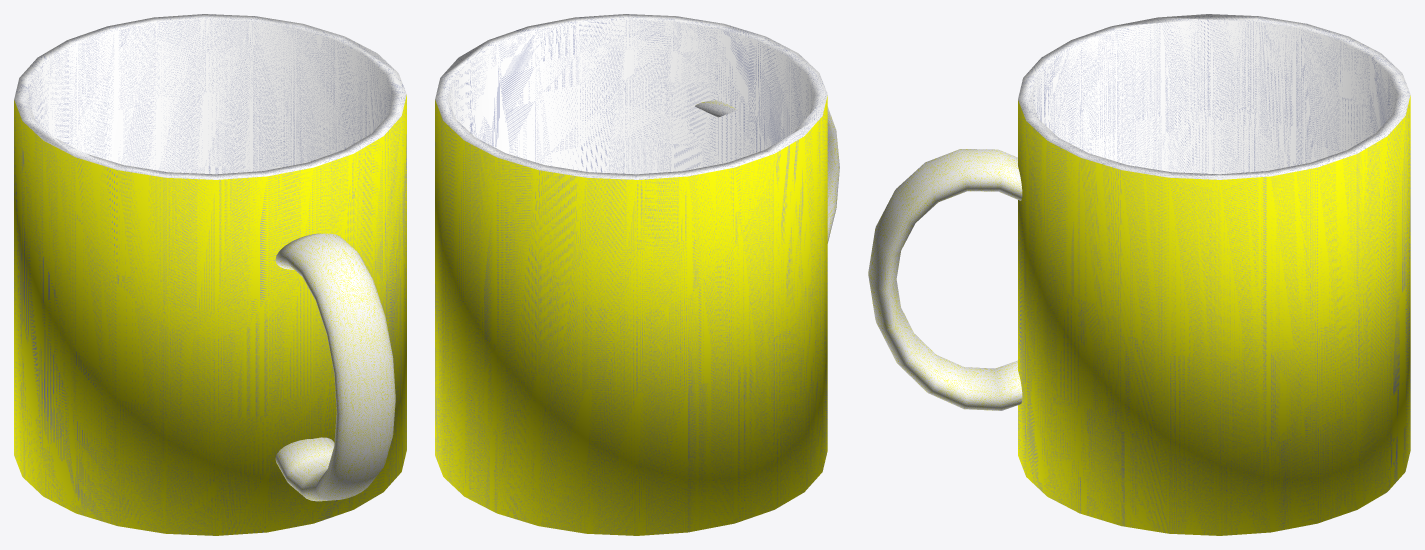
Rendered from mug2.dae.
3 views of the same model, side by side, from view 1: azimuth 30°, elevation 25°; view 2: azimuth 150°, elevation 25°; view 3: azimuth 270°, elevation 25° (orthographic).
Parts seen in each view (by area): view 1: skeF (×4); view 2: skeF (×4); view 3: skeF (×4).
Part boxes in pixels (<box>): skeF (×4): <box>14,14,406,535</box>; skeF (×4): <box>435,14,839,535</box>; skeF (×4): <box>868,14,1410,535</box>.
Bounding box in the file's own units: 195 × 269 × 195.
